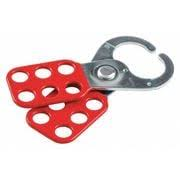hasp: (6, 35, 176, 144)
